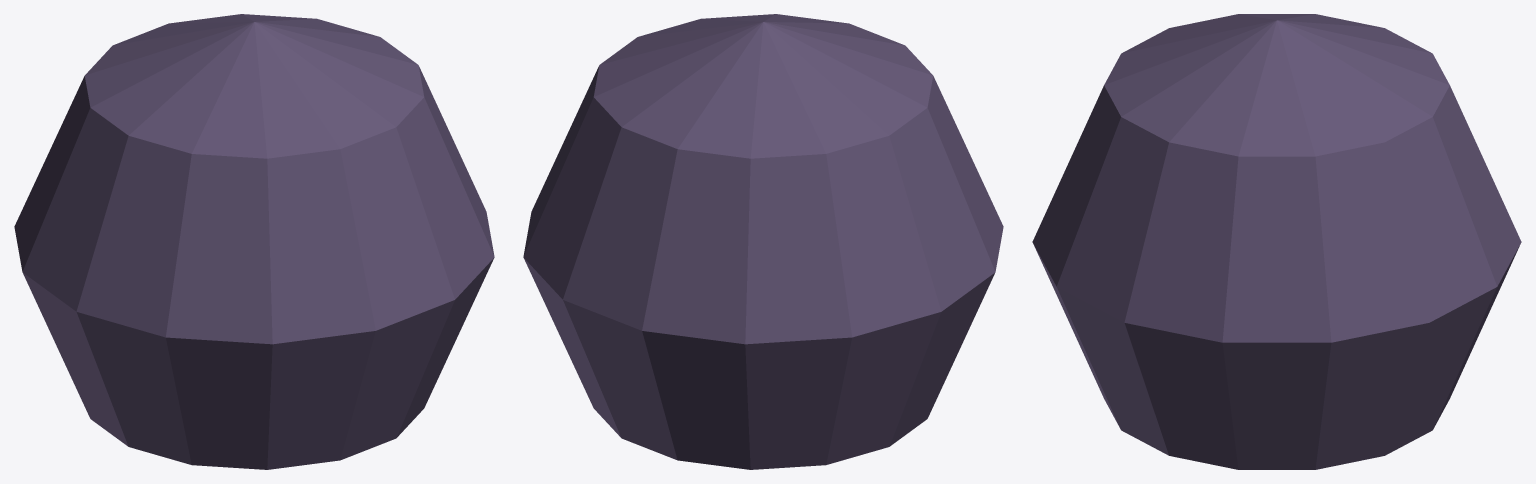
File: Base_Crystal.fbx
The picture shows the model from 3 angles, left to right: view 1: azimuth 30°, elevation 25°; view 2: azimuth 150°, elevation 25°; view 3: azimuth 270°, elevation 25°; orthographic projection.
Visible parts, largest first — view 1: Sphere; view 2: Sphere; view 3: Sphere.
Boxes of the visible parts, x1=… form: Sphere: x1=14, y1=14, x2=494, y2=469; Sphere: x1=523, y1=14, x2=1003, y2=469; Sphere: x1=1032, y1=14, x2=1521, y2=469.
Size of the model in its own units: 195 by 200 by 200.
